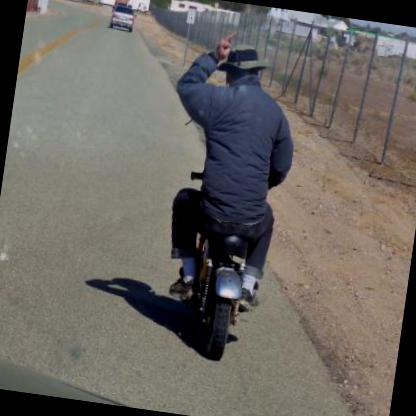motorcycle: (165, 168, 258, 362)
